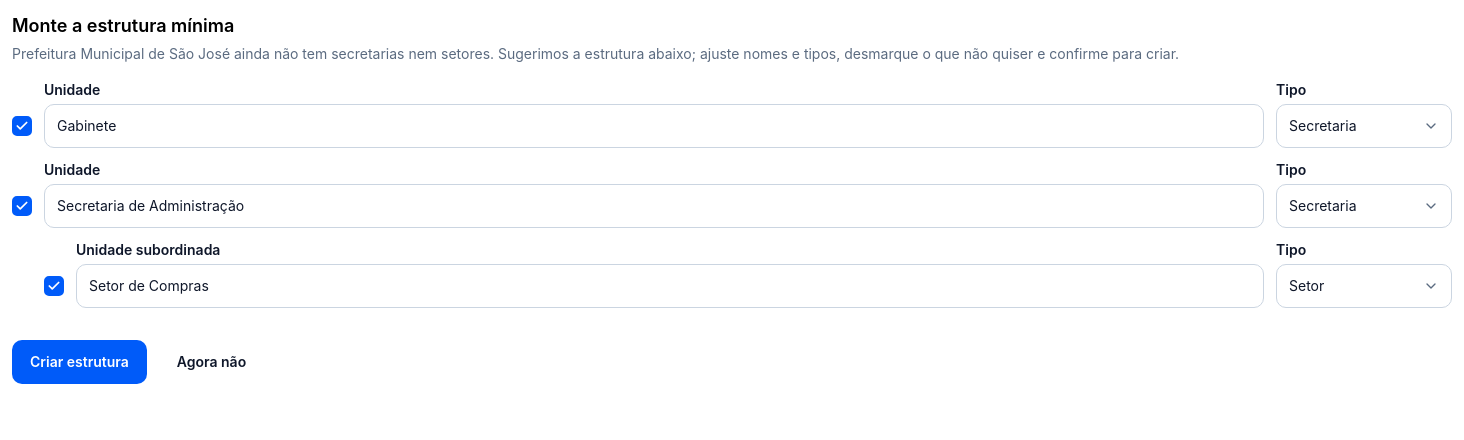
ImplementationAssistant (SCR-032 · US-099) › o tipo da unidade é editável
Click the dropdown named "Tipo".
click(1364, 126)  # box x1=1276 y1=104 x2=1452 y2=148
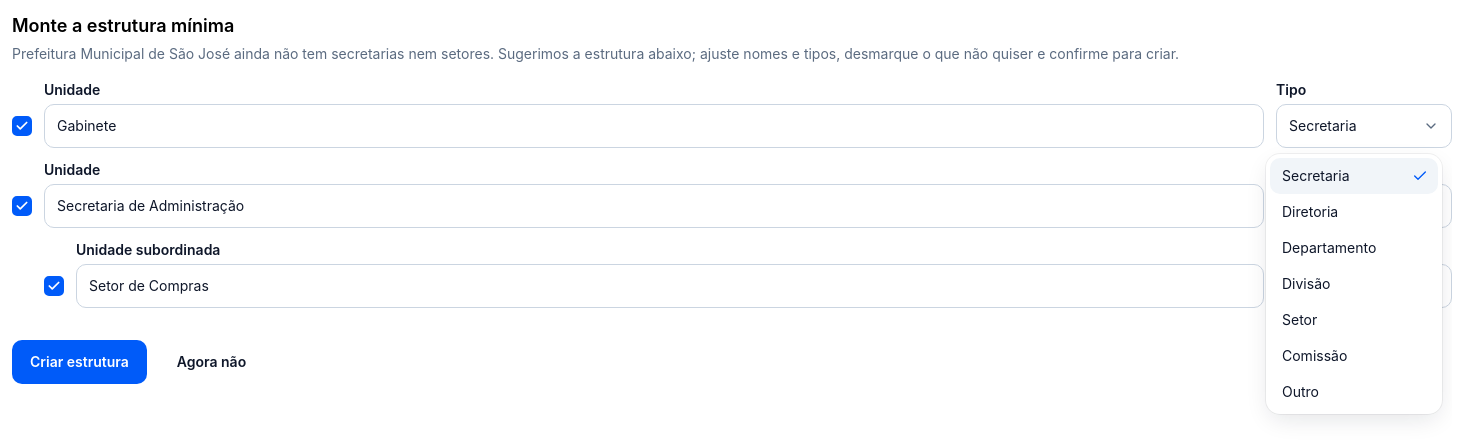
Click the option "Diretoria".
click(1310, 212)  # box x1=1282 y1=203 x2=1338 y2=220
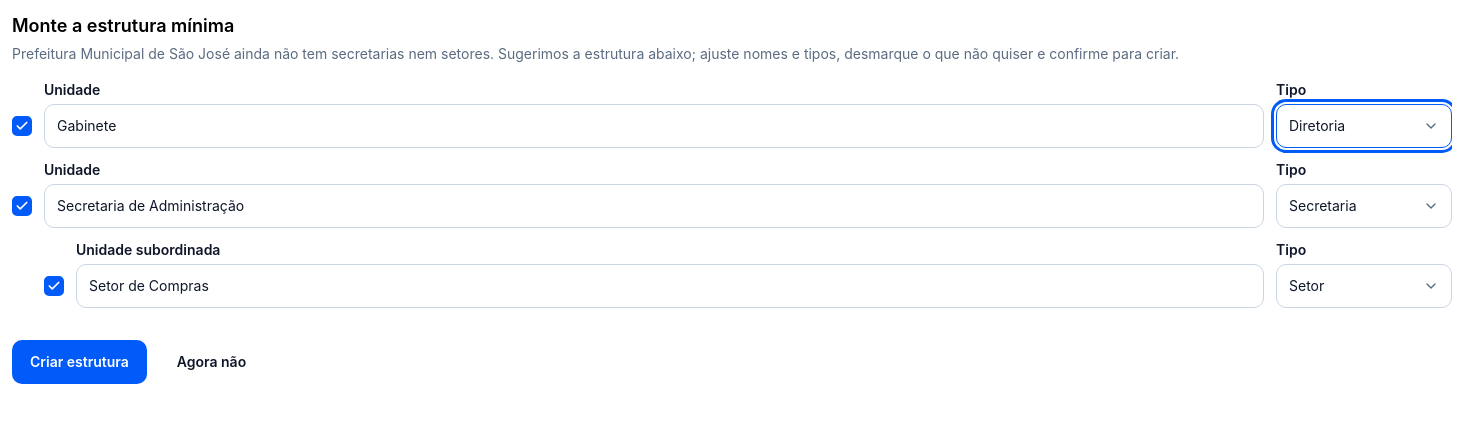
Click the button "Criar estrutura".
click(79, 362)  # box x1=12 y1=340 x2=147 y2=384
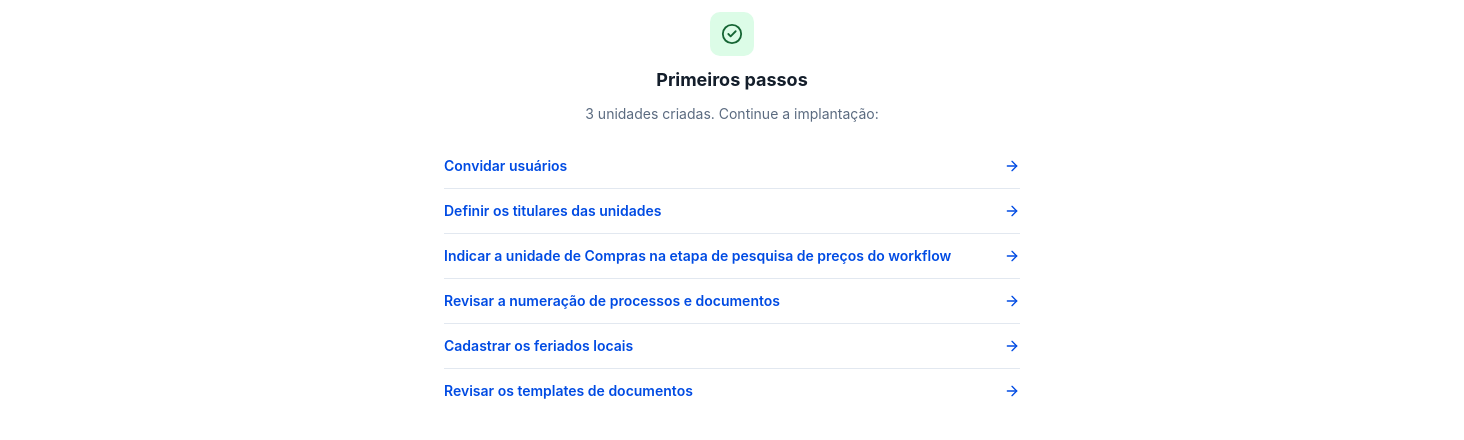
Expected: the heading "Primeiros passos" is shown, x1=656 y1=66 x2=808 y2=94
